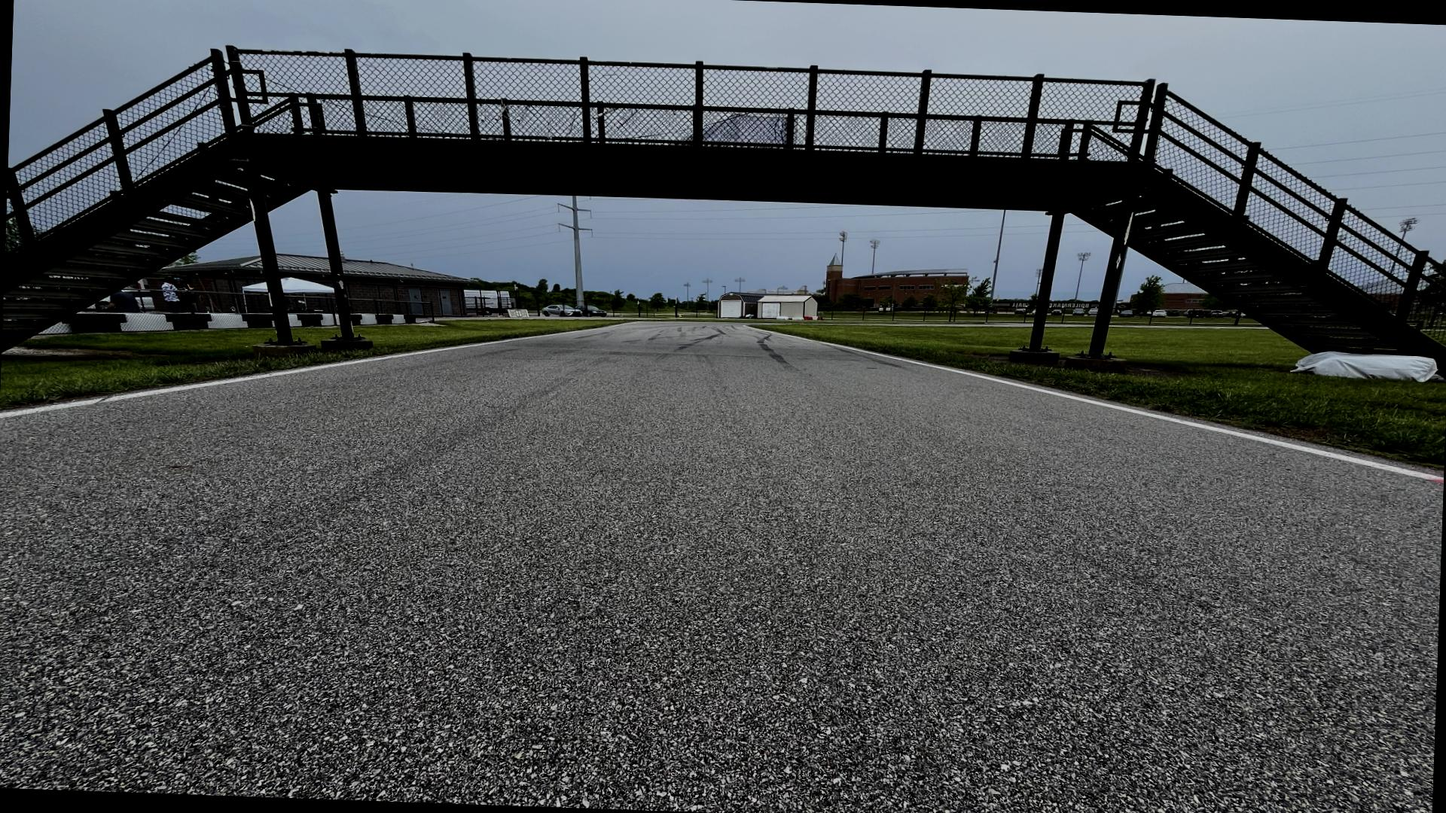white-line: (743, 324, 1443, 483), (0, 321, 755, 419)
